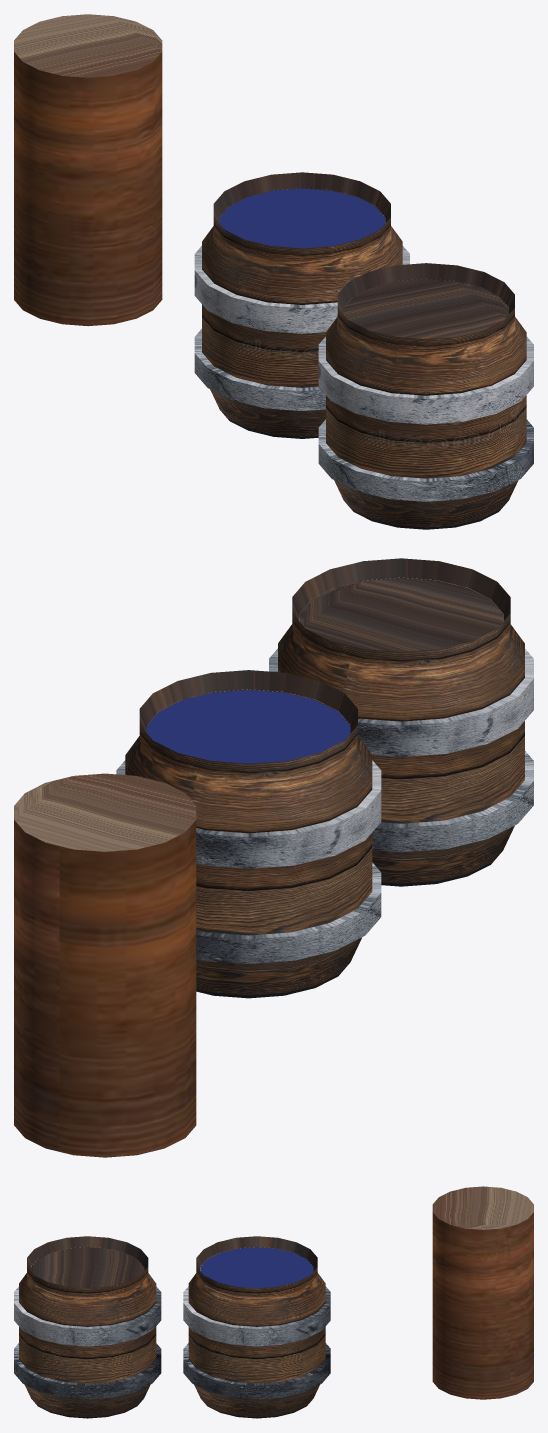
The model's file is Barrels and logs.fbx.
3 renders of one model, top to bottom at view 1: azimuth 30°, elevation 25°; view 2: azimuth 150°, elevation 25°; view 3: azimuth 270°, elevation 25°, orthographic. The views are drawn at different scales.
Parts seen in each view (by area): view 1: Cylinder003, Cylinder002, Cylinder001; view 2: Cylinder002, Cylinder001, Cylinder003; view 3: Cylinder003, Cylinder001, Cylinder002.
Boxes of the visible parts, left/top/right/bottom form: Cylinder003: left=318, top=263, right=533, bottom=529; Cylinder002: left=14, top=14, right=162, bottom=326; Cylinder001: left=194, top=172, right=409, bottom=438; Cylinder002: left=14, top=773, right=196, bottom=1157; Cylinder001: left=116, top=670, right=381, bottom=998; Cylinder003: left=269, top=558, right=533, bottom=886; Cylinder003: left=14, top=1236, right=161, bottom=1418; Cylinder001: left=183, top=1236, right=330, bottom=1418; Cylinder002: left=432, top=1186, right=533, bottom=1399.
Size of the model in its own units: 95.33 by 108 by 301.
5 materials, 4 textured.
